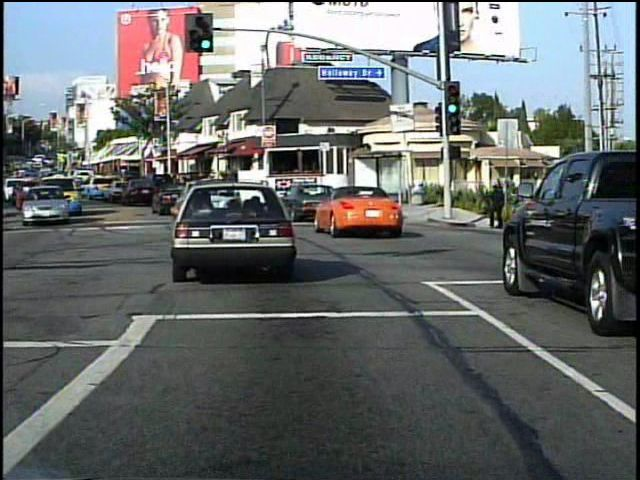person: (569, 186, 592, 247), (486, 182, 508, 229)
